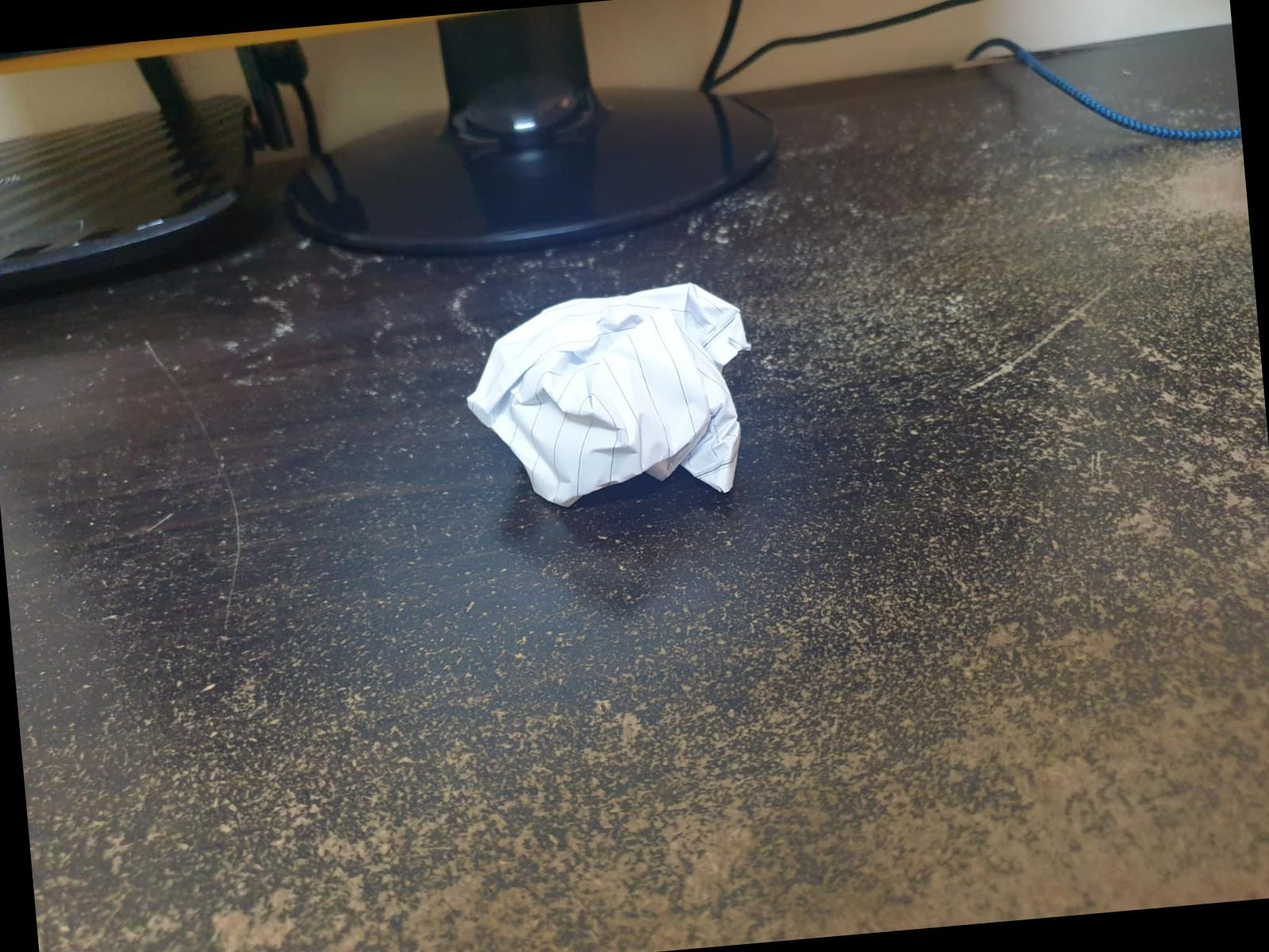Kertas: (467, 282, 750, 506)
